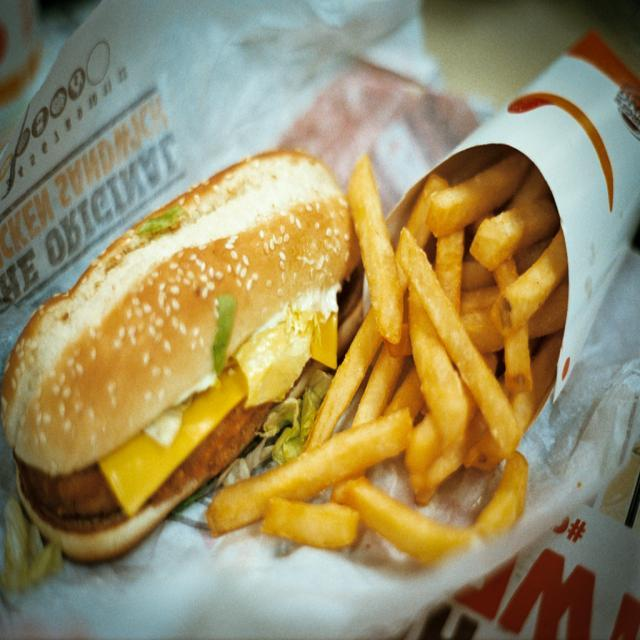Cheese: (96, 366, 247, 518), (313, 308, 340, 369)
